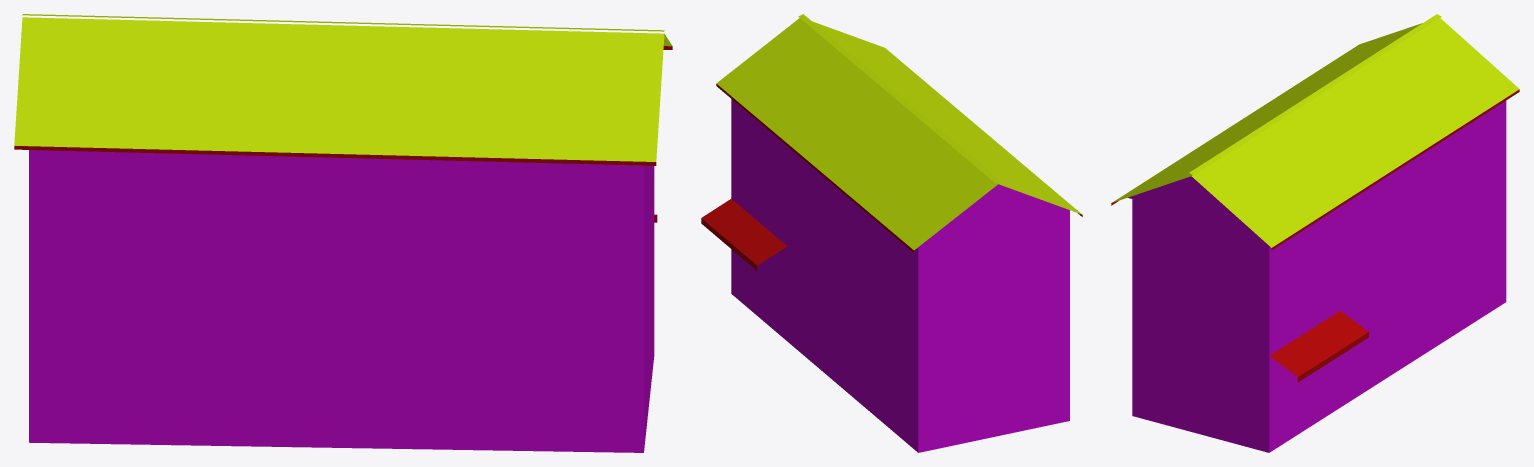
Rendered from sag_20.glb.
3 views of the same model, side by side, from view 1: azimuth 30°, elevation 25°; view 2: azimuth 150°, elevation 25°; view 3: azimuth 270°, elevation 25° (orthographic). The views are drawn at different scales.
Parts seen in each view (by area): view 1: sag_20; view 2: sag_20; view 3: sag_20.
Part boxes in pixels (box(x1,y1,x2,y2)): sag_20: box(14, 14, 672, 452); sag_20: box(701, 14, 1082, 452); sag_20: box(1111, 14, 1519, 452).
Bounding box in the file's own units: 19.79 × 11.89 × 16.68.
